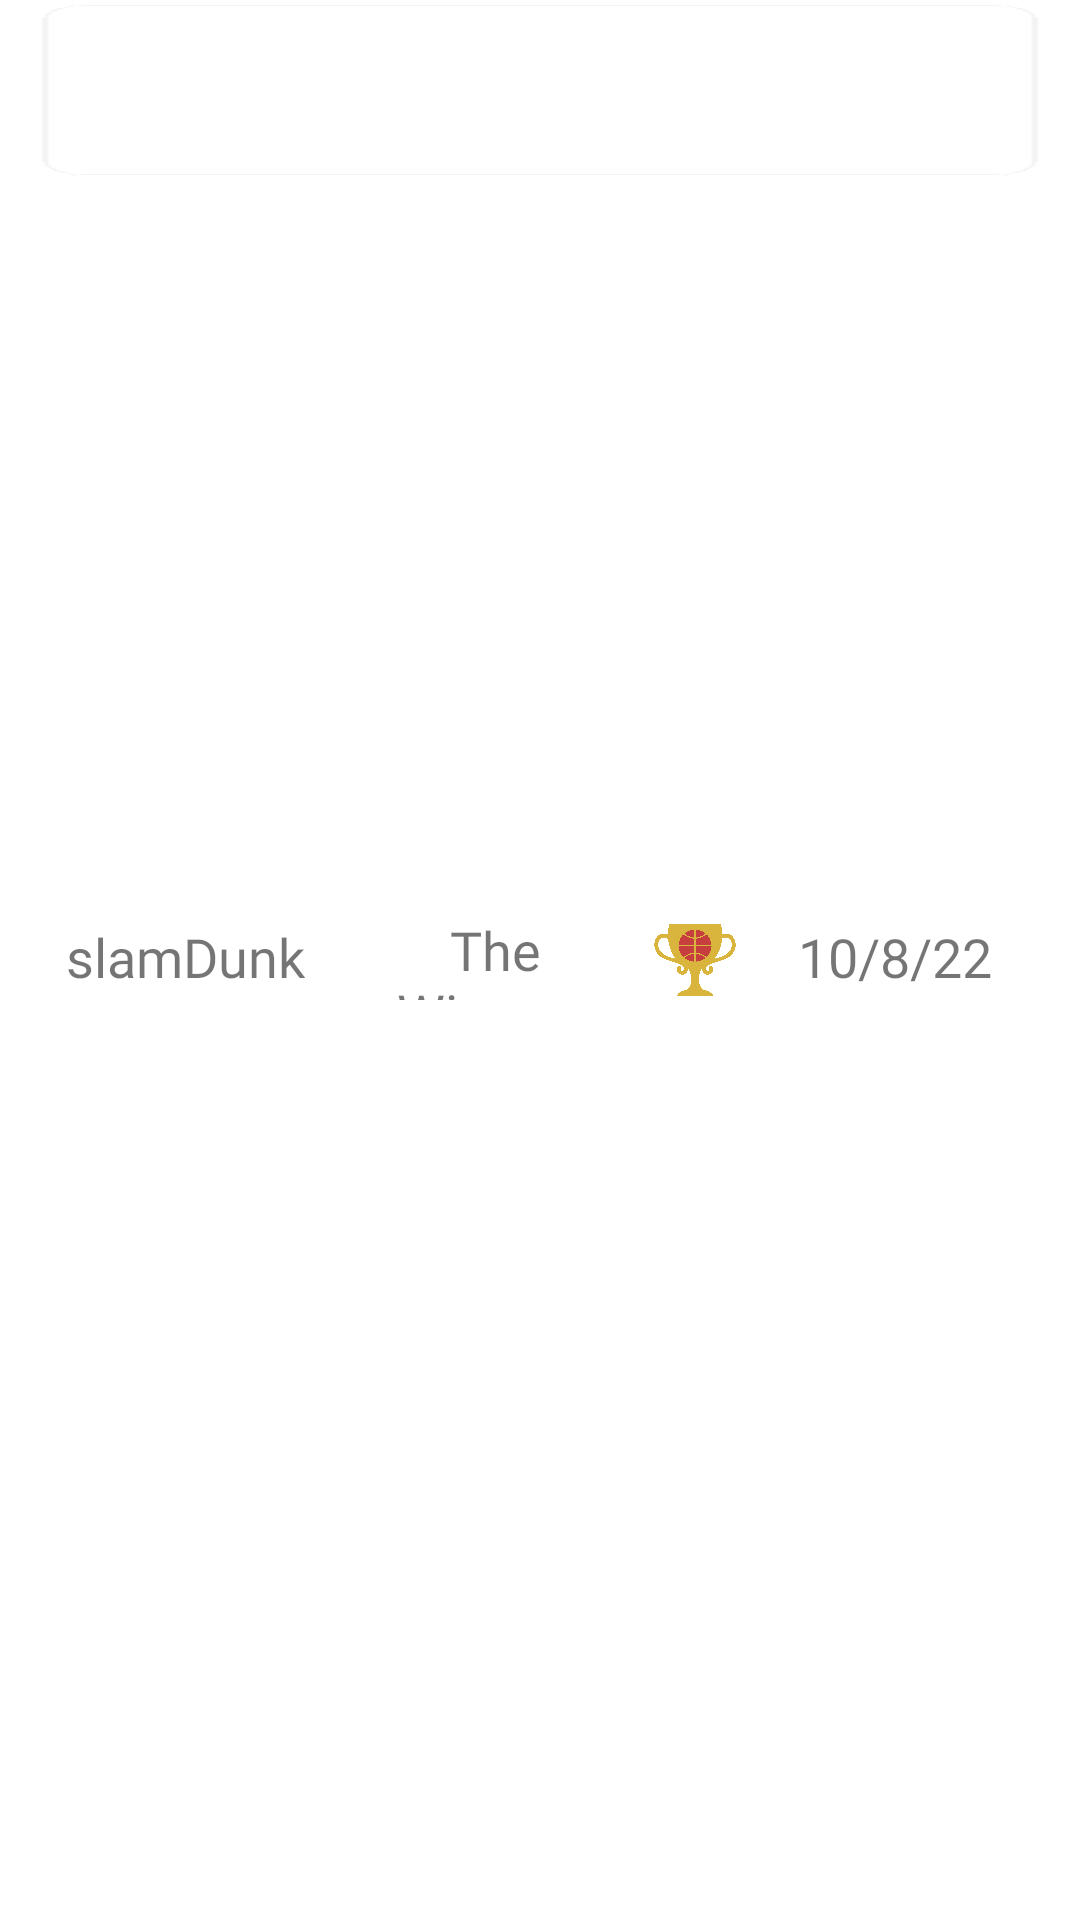

Screen size 1080×1920. Icon name, then its box in pixels as (x1, y1, x2, y2):
trofeu: (654, 924, 736, 996)
